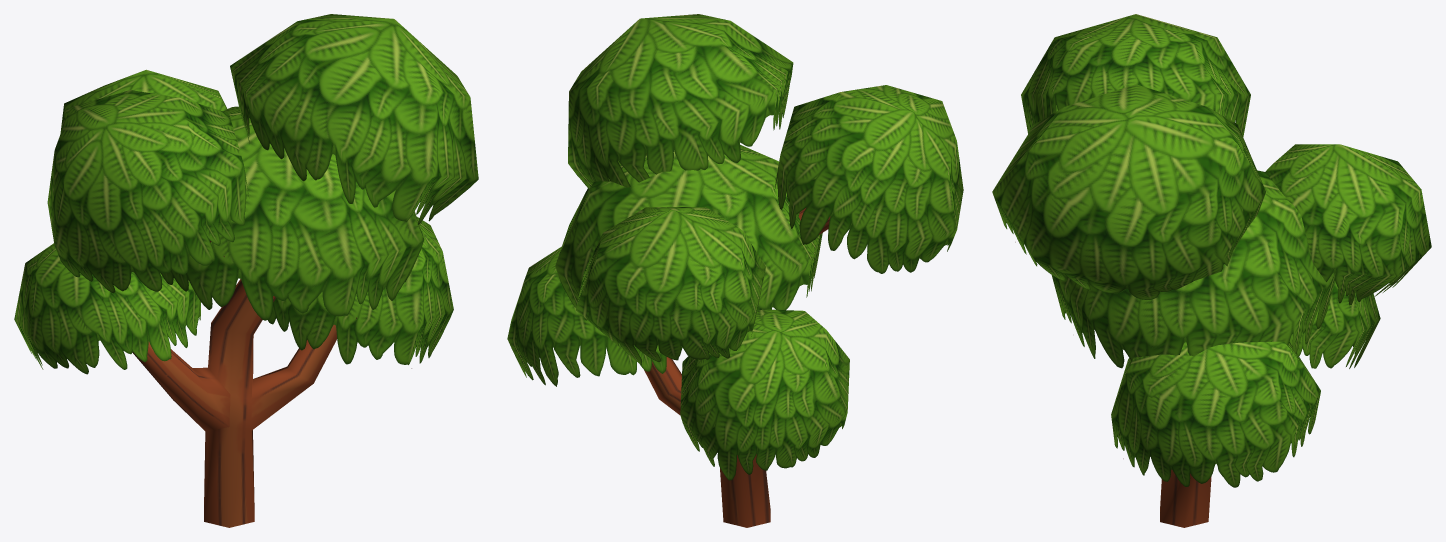
The model's file is Bush.FBX.
3 renders of one model, left to right at view 1: azimuth 30°, elevation 25°; view 2: azimuth 150°, elevation 25°; view 3: azimuth 270°, elevation 25°, orthographic. The views are drawn at different scales.
Parts seen in each view (by area): view 1: Bush; view 2: Bush; view 3: Bush.
Boxes of the visible parts, x1=… form: Bush: x1=14, y1=14, x2=478, y2=527; Bush: x1=507, y1=14, x2=963, y2=527; Bush: x1=992, y1=14, x2=1431, y2=527.
Size of the model in its own units: 152 by 162 by 140.
